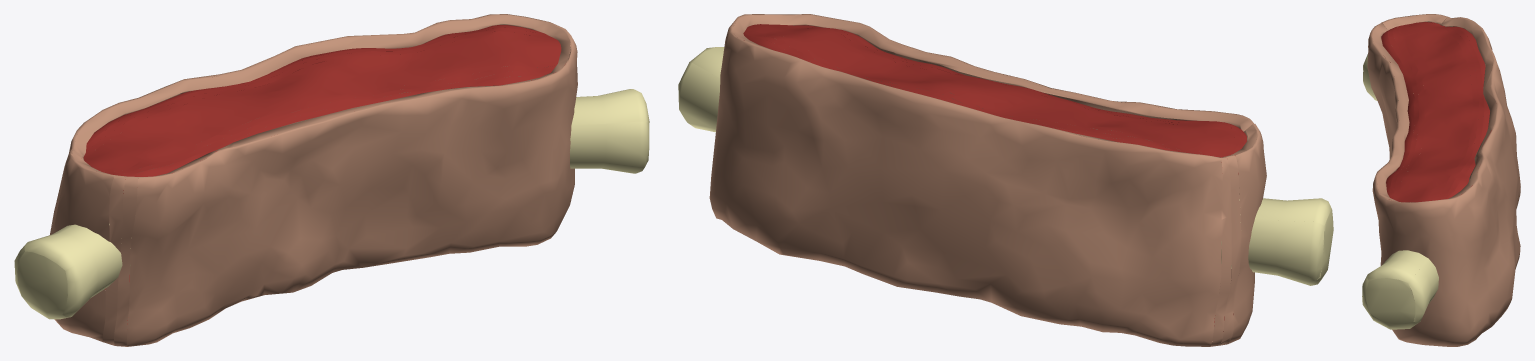
The model's file is Food (14).fbx.
3 views of the same model, side by side, from view 1: azimuth 30°, elevation 25°; view 2: azimuth 150°, elevation 25°; view 3: azimuth 270°, elevation 25° (orthographic). The views are drawn at different scales.
Parts seen in each view (by area): view 1: Cube.014; view 2: Cube.014; view 3: Cube.014.
Part boxes in pixels (x1,y1,x2,y2): Cube.014: (14, 14, 649, 346); Cube.014: (678, 14, 1333, 346); Cube.014: (1362, 14, 1520, 346).
Size of the model in its own units: 16.58 by 5.12 by 4.49.
